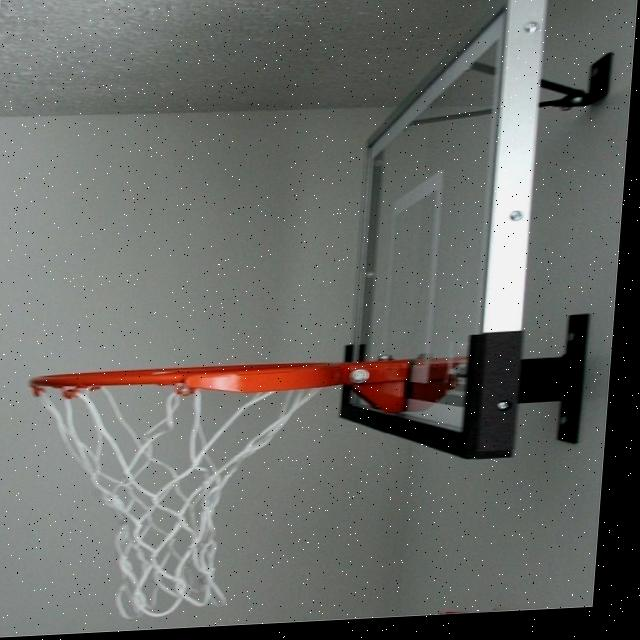hoop: (0, 325, 439, 635)
